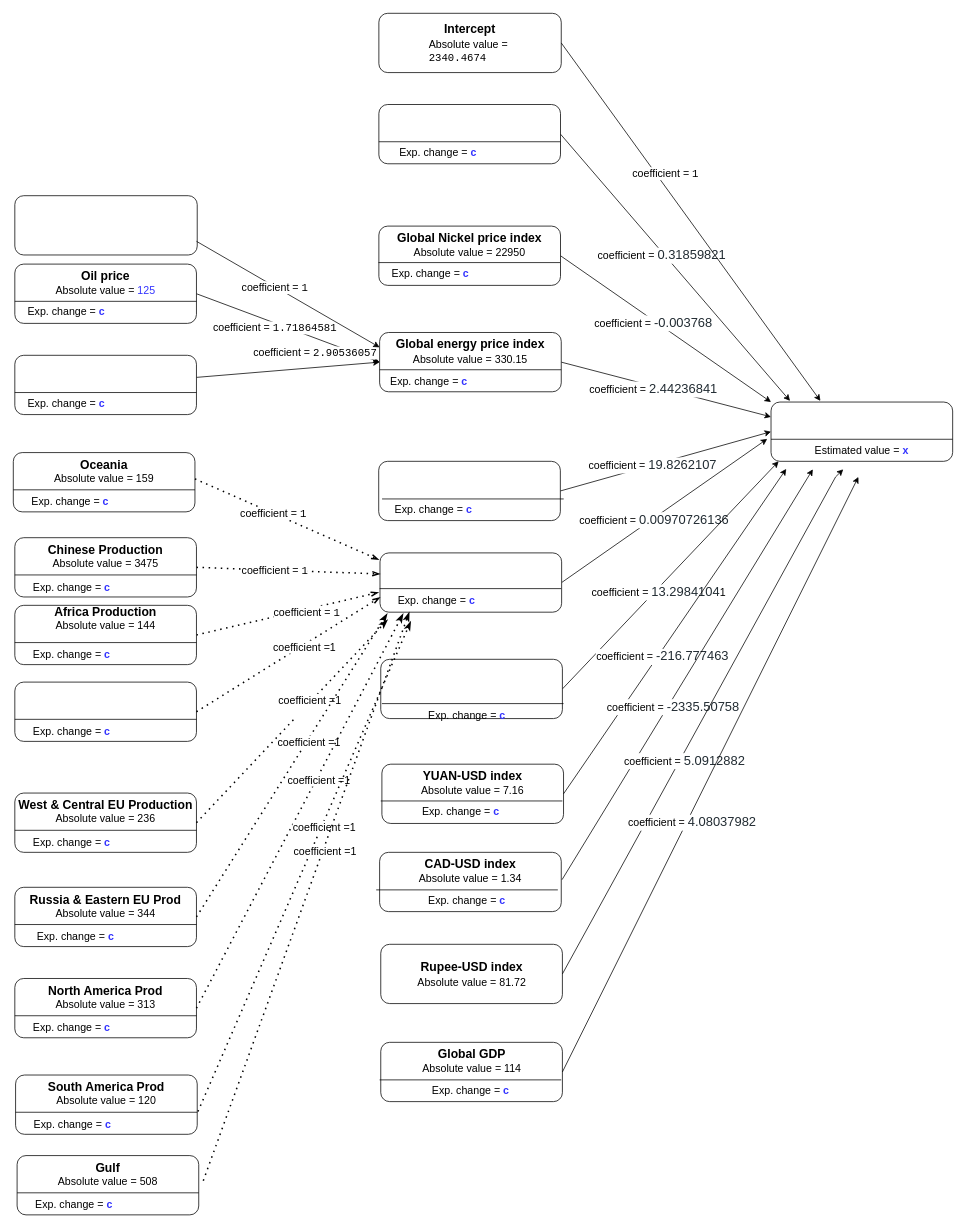
Image size: 967x1229. Some labels were removed from this diagram. The box of each missing label's shape, as (x1, y1, x2, y2) in pixels:
Aluminium price Absolute value = 2412: (770, 401, 953, 461)
Asia (ex China) Production Absolute value = 394: (14, 681, 196, 741)
Gas price Absolute value = 32.9: (14, 355, 196, 415)
Global Production (in tons) Absolute value = 5693: (379, 552, 562, 612)
Global Zinc price index Absolute value = 2752: (378, 104, 560, 164)
Intercept Absolute value = 13.48: (14, 195, 197, 255)
RUB-USD index Absolute value = 60.61: (380, 659, 562, 719)
USD index Absolute value = 101.95: (378, 461, 560, 521)
